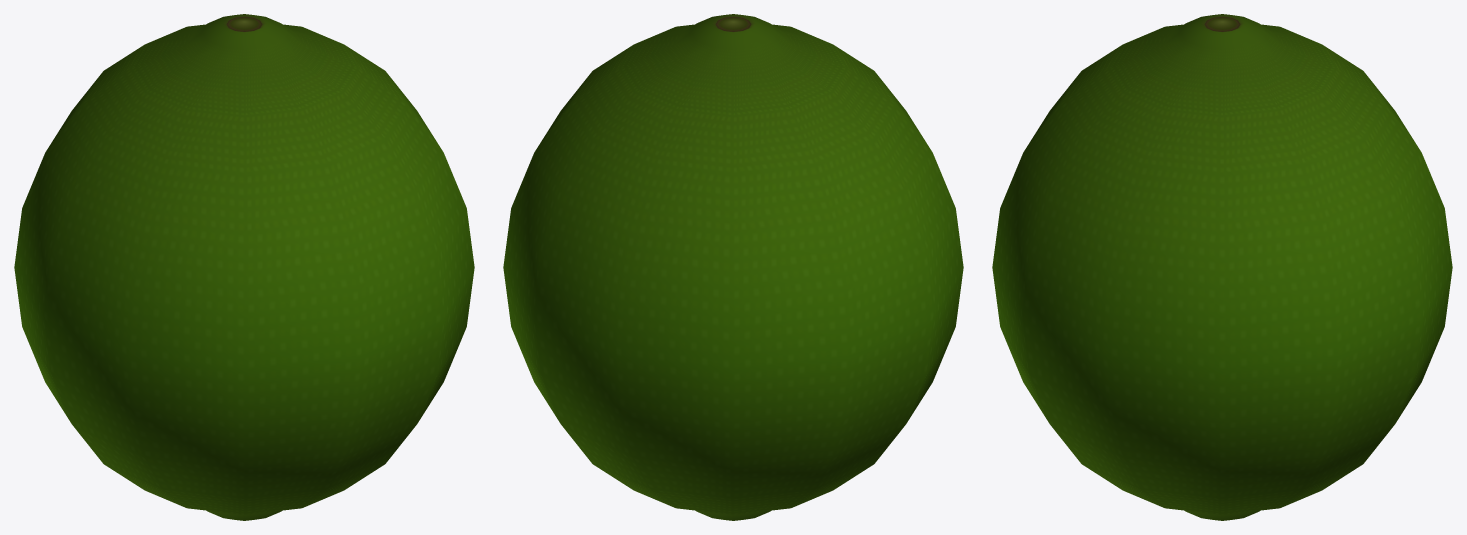
The model's file is Lime.fbx.
The picture shows the model from 3 angles, left to right: view 1: azimuth 30°, elevation 25°; view 2: azimuth 150°, elevation 25°; view 3: azimuth 270°, elevation 25°; orthographic projection.
Visible parts, largest first — view 1: Lime_Whole; view 2: Lime_Whole; view 3: Lime_Whole.
Part boxes in pixels (box(x1,y1,x2,y2)): Lime_Whole: box(14, 14, 474, 520); Lime_Whole: box(503, 14, 963, 520); Lime_Whole: box(992, 14, 1452, 520).
Bounding box in the file's own units: 1.57 × 1.86 × 1.57.
